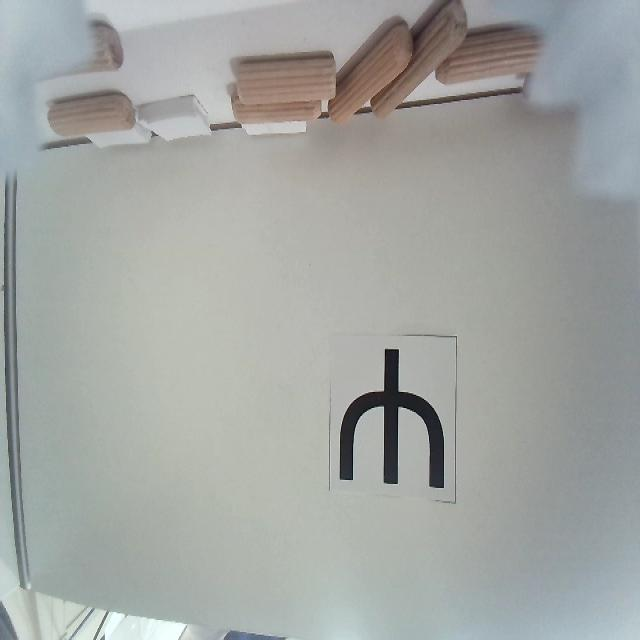nedoF: (339, 348, 444, 491)
